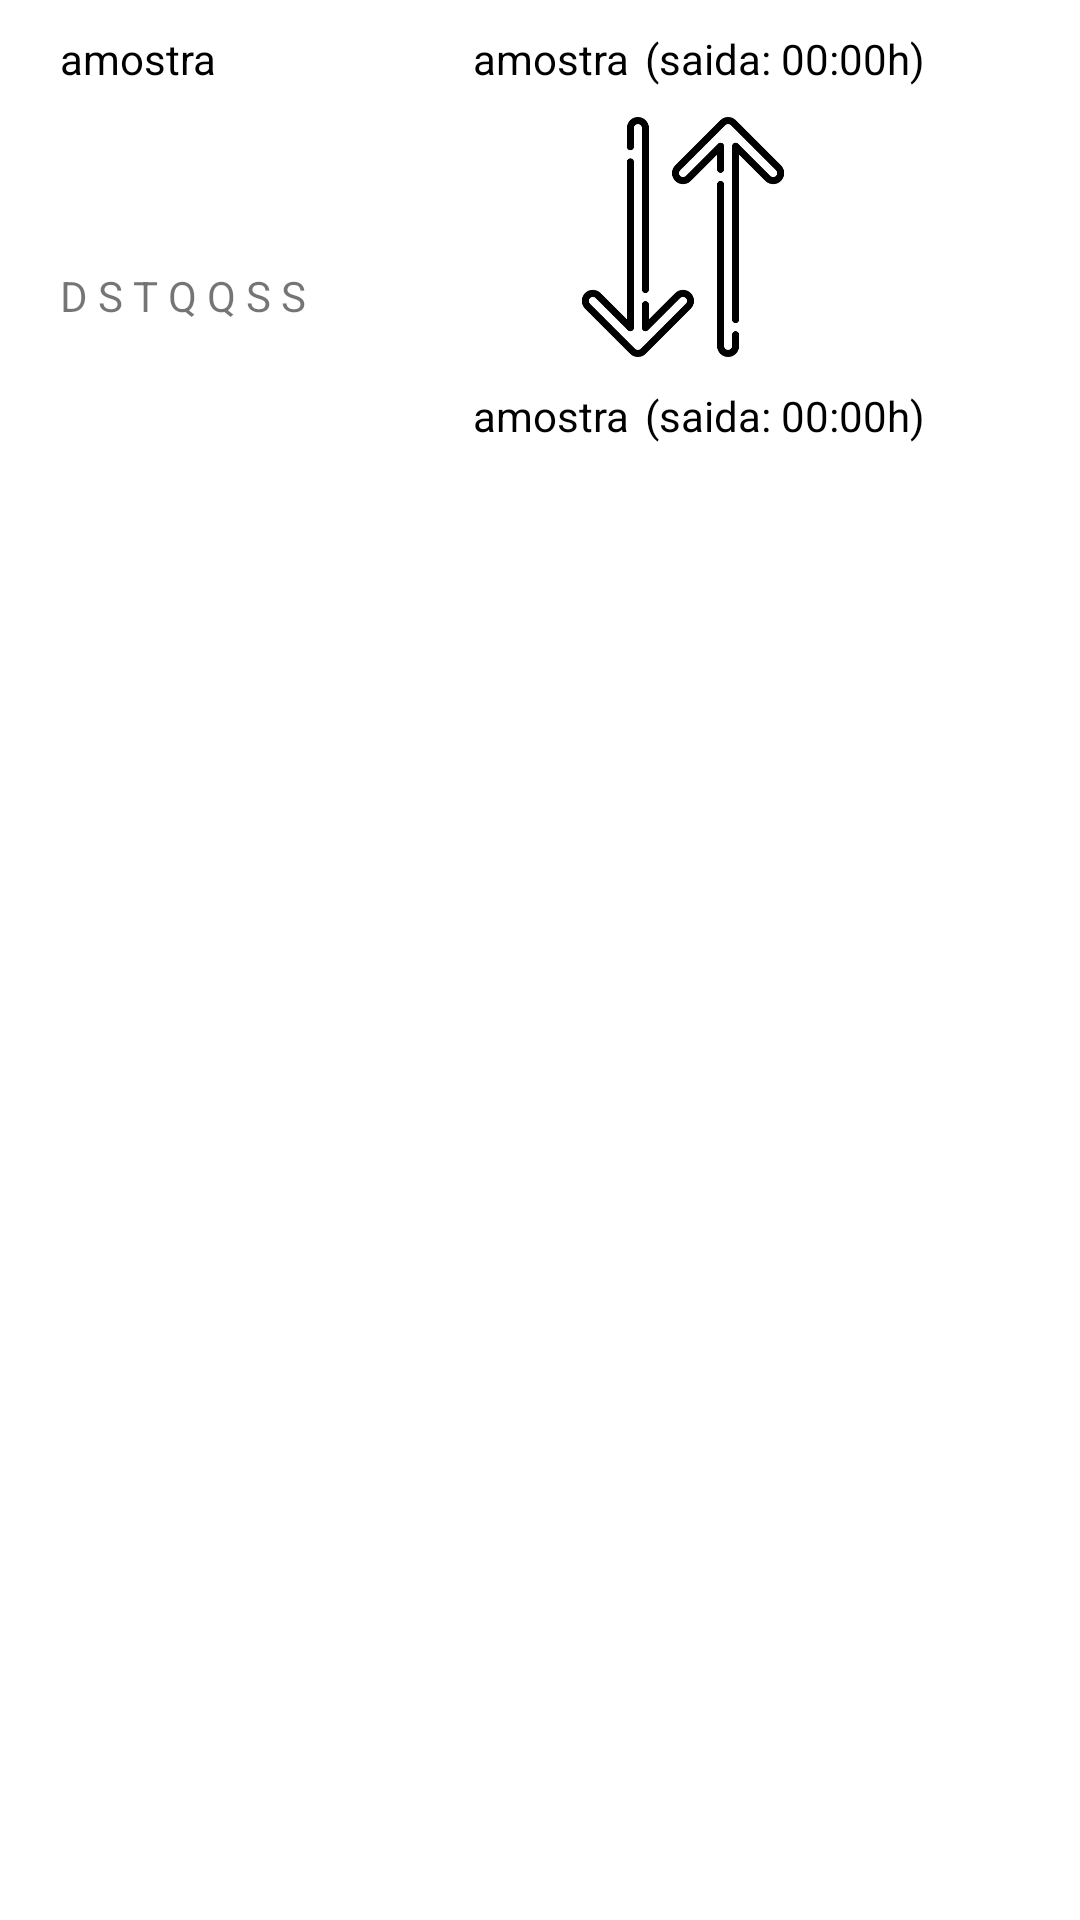

Named icons in this screenshot (1080w x 1920h) and their bounding boxes, (x1, y1, x2, y2):
seta ida volta: (582, 117, 784, 357)
